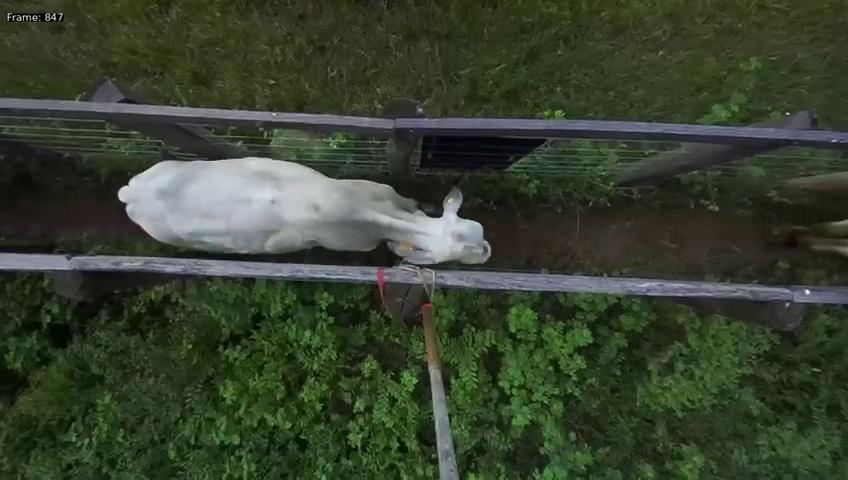cattle: (115, 122, 492, 266)
